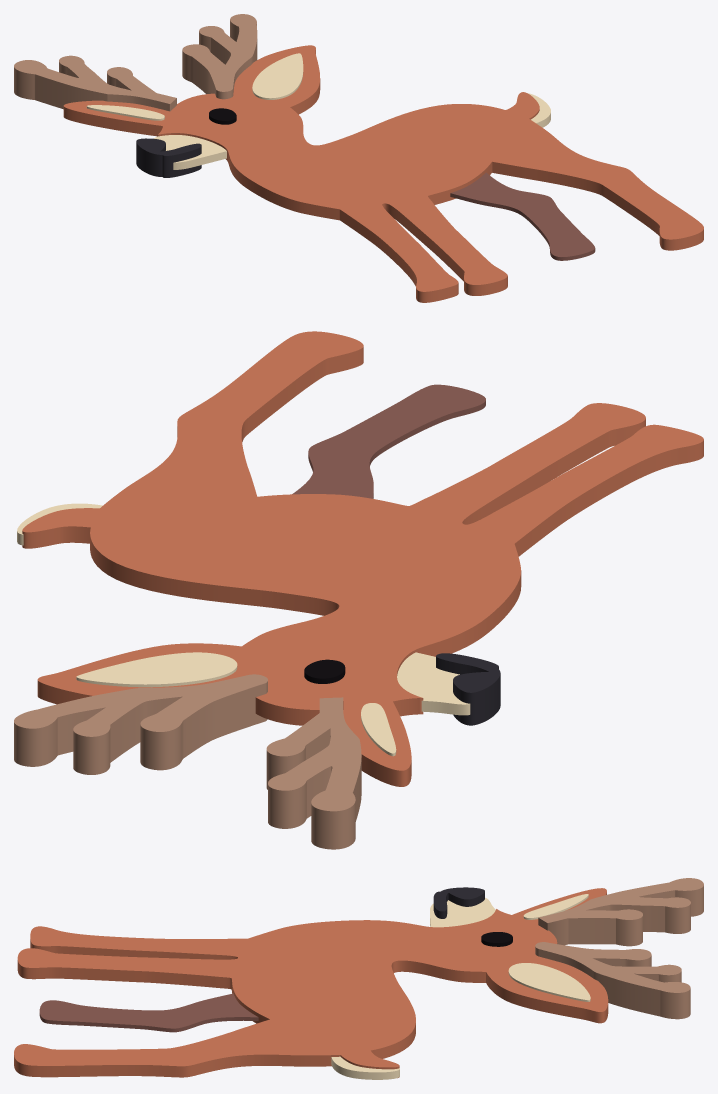
The model's file is emoji_u1f98c.glb.
The picture shows the model from 3 angles, top to bottom: view 1: azimuth 30°, elevation 25°; view 2: azimuth 150°, elevation 25°; view 3: azimuth 270°, elevation 25°; orthographic projection. The views are drawn at different scales.
Visible parts, largest first — view 1: emoji_u1f98c; view 2: emoji_u1f98c; view 3: emoji_u1f98c.
Boxes of the visible parts, x1,y1,x2,y2 form: emoji_u1f98c: (14,14,703,302); emoji_u1f98c: (14,331,703,849); emoji_u1f98c: (14,878,703,1079).
Size of the model in its own units: 0.0212 by 0.0014 by 0.0334.
